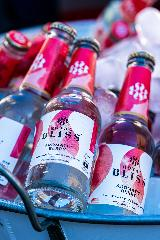glass: (0, 20, 160, 216)
